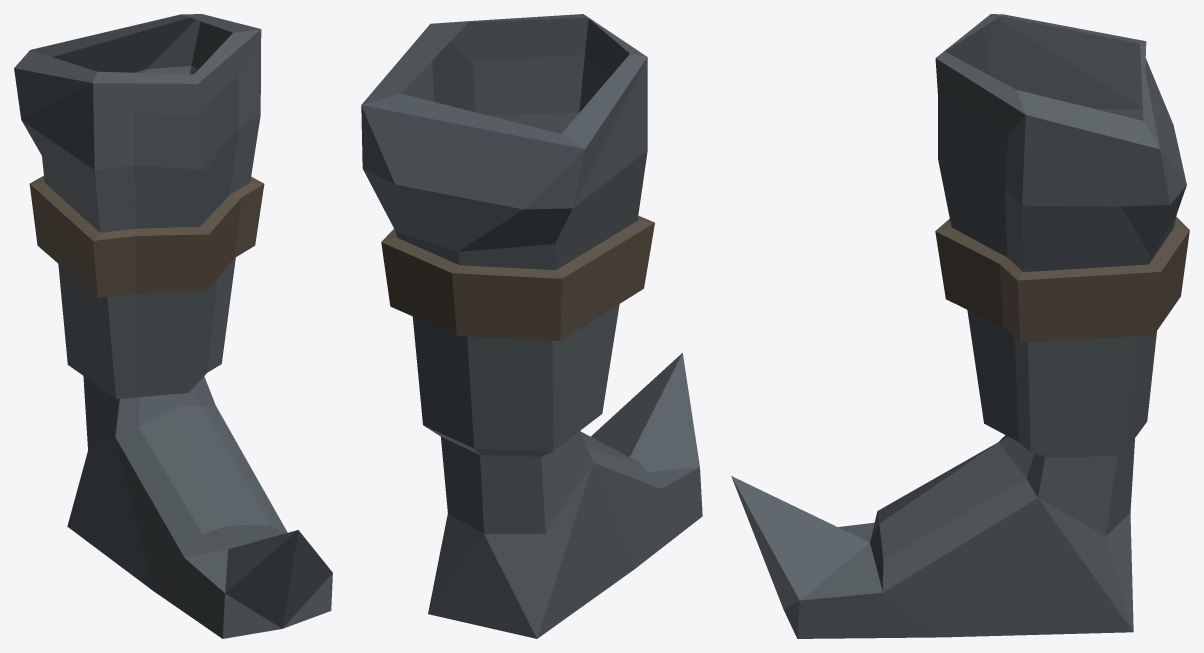
The model's file is Chr_LegRight_Male_02_Static.fbx.
The picture shows the model from 3 angles, left to right: view 1: azimuth 30°, elevation 25°; view 2: azimuth 150°, elevation 25°; view 3: azimuth 270°, elevation 25°; orthographic projection. The views are drawn at different scales.
Parts seen in each view (by area): view 1: Chr_LegRight_Male_02_Static; view 2: Chr_LegRight_Male_02_Static; view 3: Chr_LegRight_Male_02_Static.
Part boxes in pixels (x1,y1,x2,y2): Chr_LegRight_Male_02_Static: [14, 14, 332, 638]; Chr_LegRight_Male_02_Static: [361, 14, 702, 638]; Chr_LegRight_Male_02_Static: [731, 14, 1189, 638].
Size of the model in its own units: 0.1656 by 0.4045 by 0.3056.
